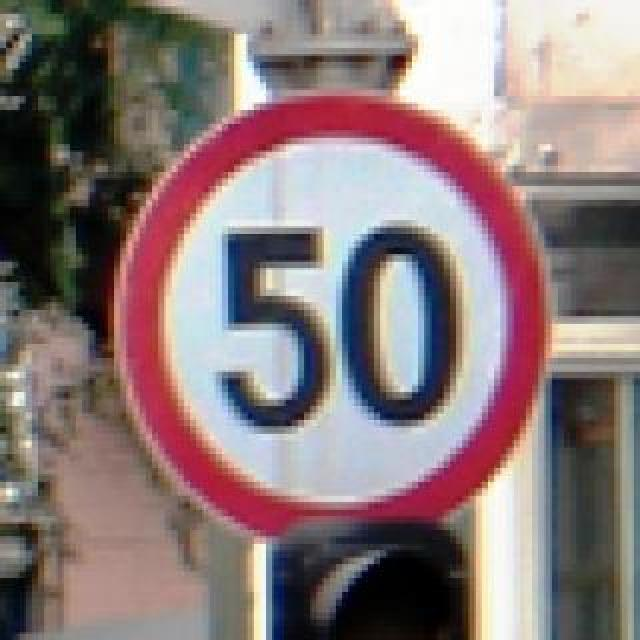50 kph: (102, 84, 552, 538)
